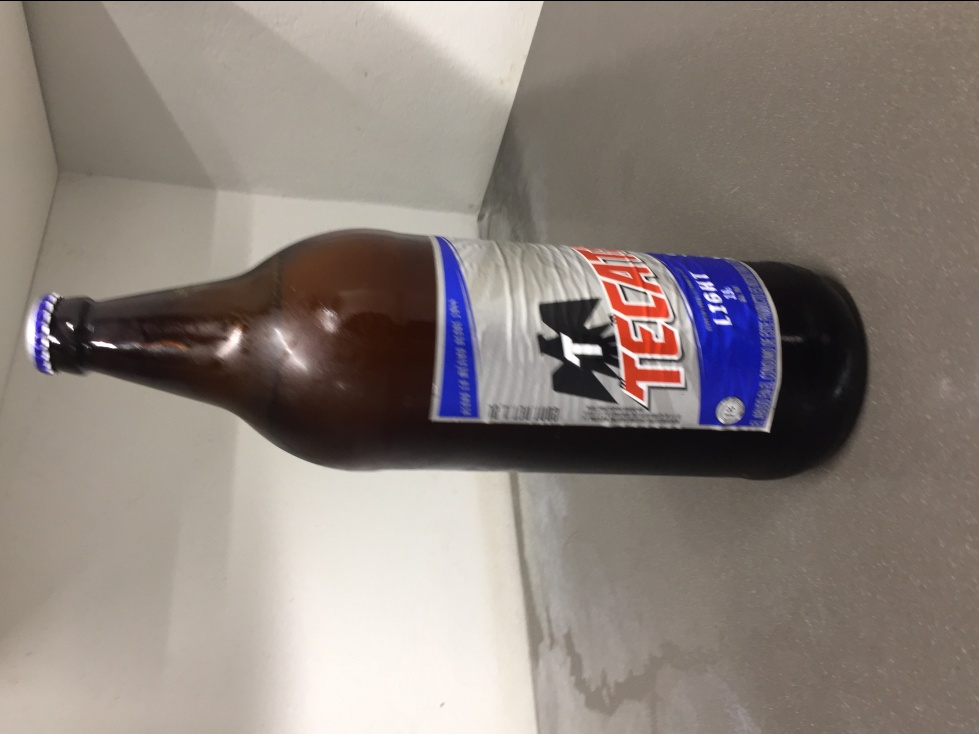tecateC: (23, 220, 862, 479)
